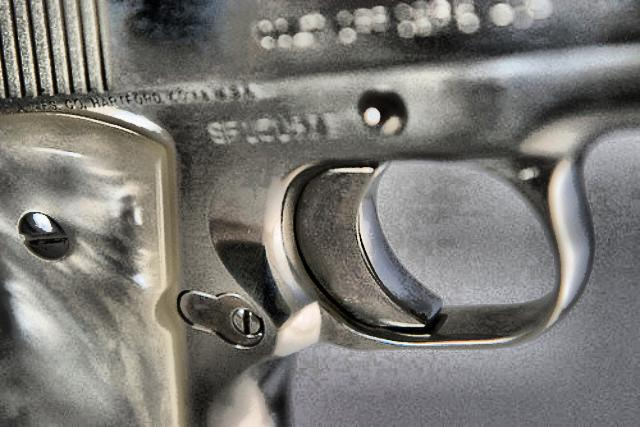pistol: (0, 0, 636, 424)
